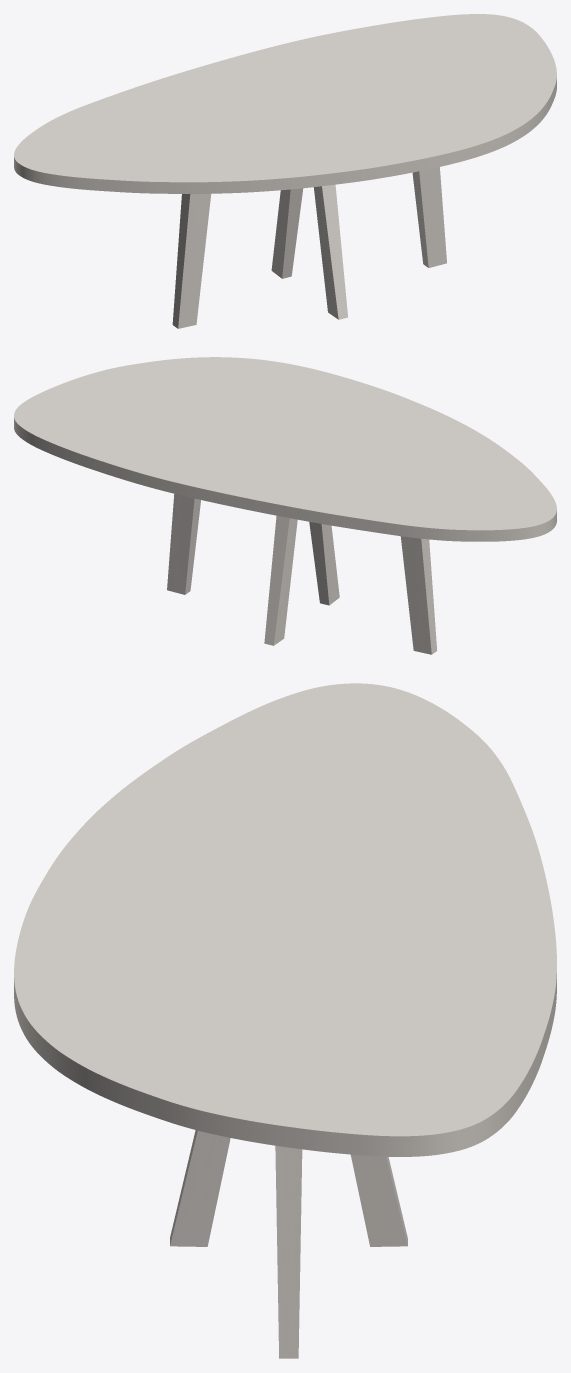
The model's file is pearlwhite_pebbletop_standard_searwalnut.glb.
3 views of the same model, one above another, from view 1: azimuth 30°, elevation 25°; view 2: azimuth 150°, elevation 25°; view 3: azimuth 270°, elevation 25° (orthographic). The views are drawn at different scales.
Visible parts, largest first — view 1: standard_pebbletop, searwalnut; view 2: standard_pebbletop, searwalnut; view 3: standard_pebbletop, searwalnut.
Boxes of the visible parts, x1,y1,x2,y2 form: standard_pebbletop: [14, 14, 556, 193]; searwalnut: [172, 167, 446, 328]; standard_pebbletop: [14, 357, 556, 541]; searwalnut: [167, 494, 437, 654]; standard_pebbletop: [14, 683, 556, 1156]; searwalnut: [170, 1130, 407, 1358].
Bounding box in the file's own units: 7.5 × 2.51 × 3.8.
Materials: 1 (1 with a texture image).
